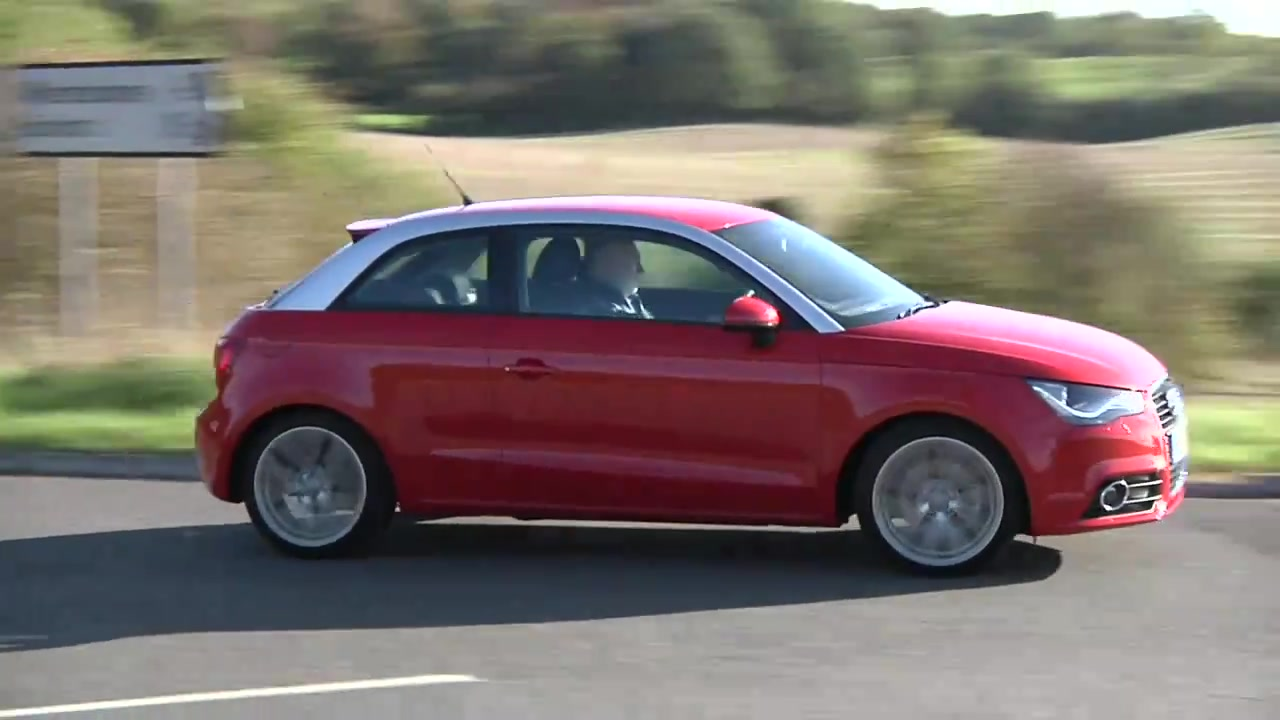car: (190, 196, 1200, 580)
